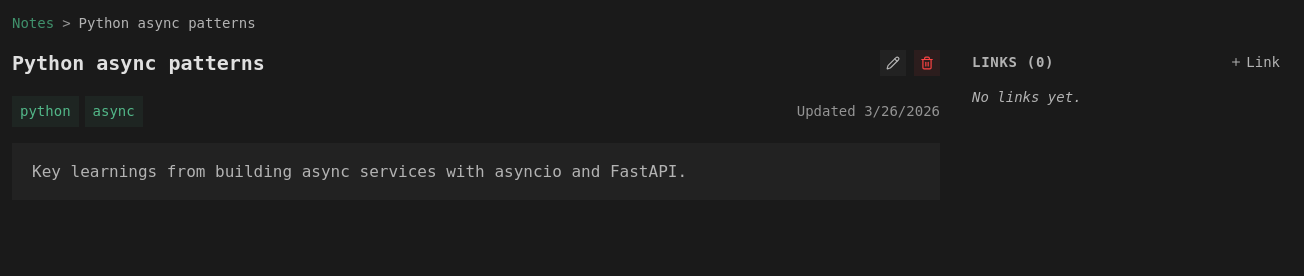
NoteDetailView › edit button switches to edit mode with pre-populated fields
Expected: the text "Python async patterns" is shown, [79,12,256,34]
Click the button named "Edit" at (893, 63), box [880,50,906,76]
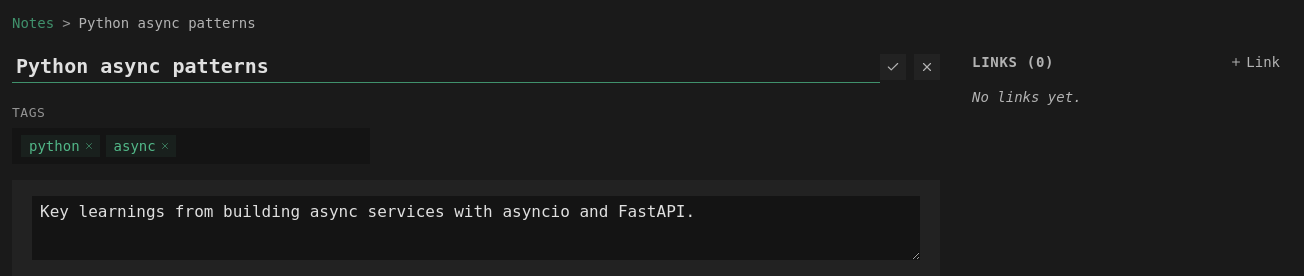
Result: the field showing "Python async patterns" is shown at [12,50,880,83]
